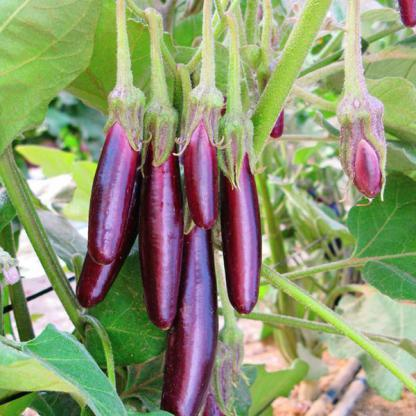eggplant: (76, 107, 142, 304), (159, 215, 220, 415), (90, 84, 146, 266), (144, 100, 185, 331), (220, 107, 263, 315), (186, 88, 222, 231), (338, 95, 385, 200)
